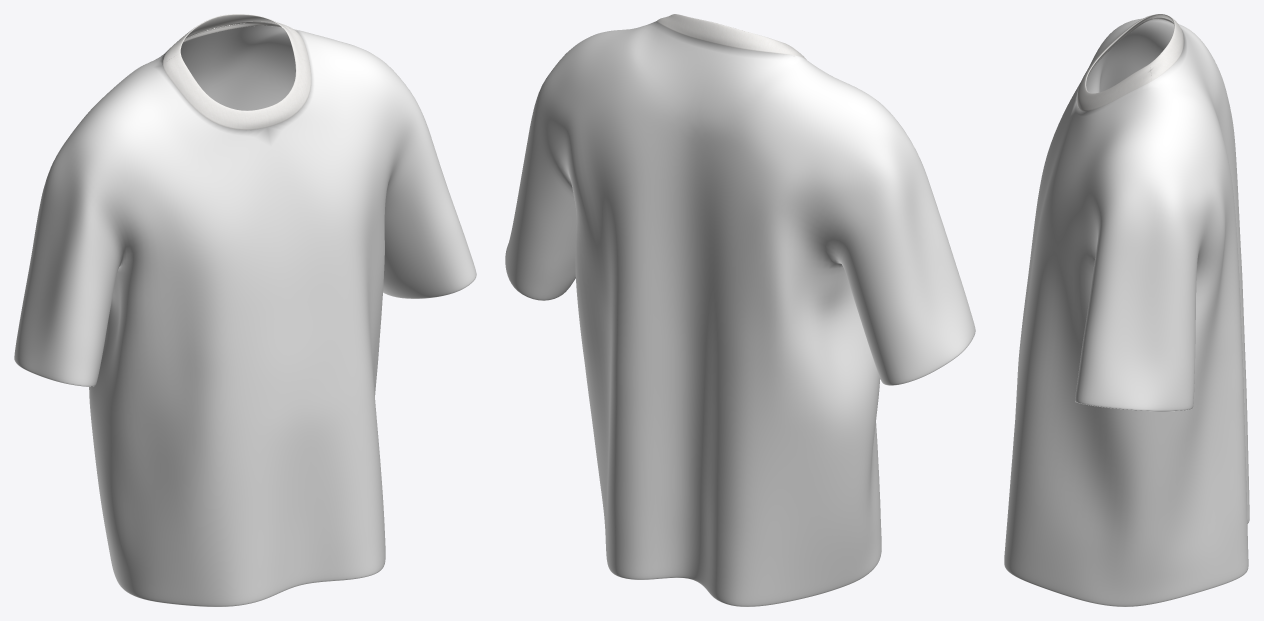
The model's file is t-shirt-low-poly.fbx.
3 views of the same model, side by side, from view 1: azimuth 30°, elevation 25°; view 2: azimuth 150°, elevation 25°; view 3: azimuth 270°, elevation 25° (orthographic). The views are drawn at different scales.
Visible parts, largest first — view 1: T-Shirt; view 2: T-Shirt; view 3: T-Shirt.
Boxes of the visible parts, box(x1,y1,x2,y2) form: T-Shirt: box(14, 14, 476, 606); T-Shirt: box(505, 14, 975, 606); T-Shirt: box(1004, 14, 1249, 606).
Bounding box in the file's own units: 91.23 × 106 × 44.89.
Materials: 1 (1 with a texture image).
